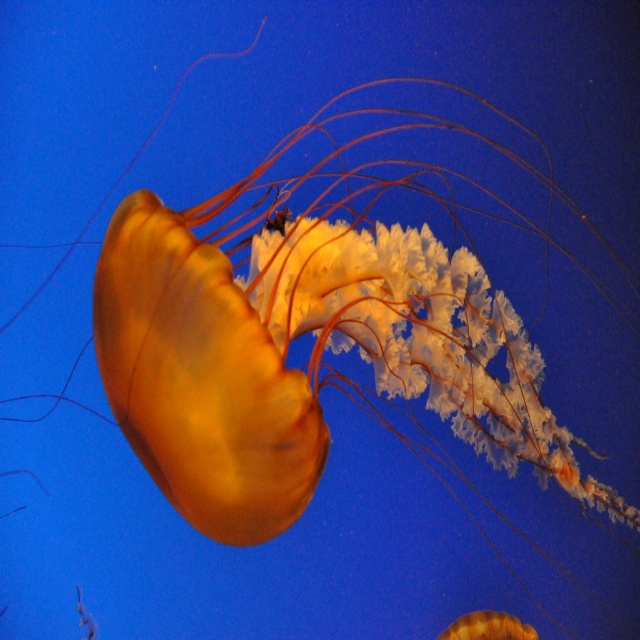Jellyfish: (89, 74, 639, 639)
